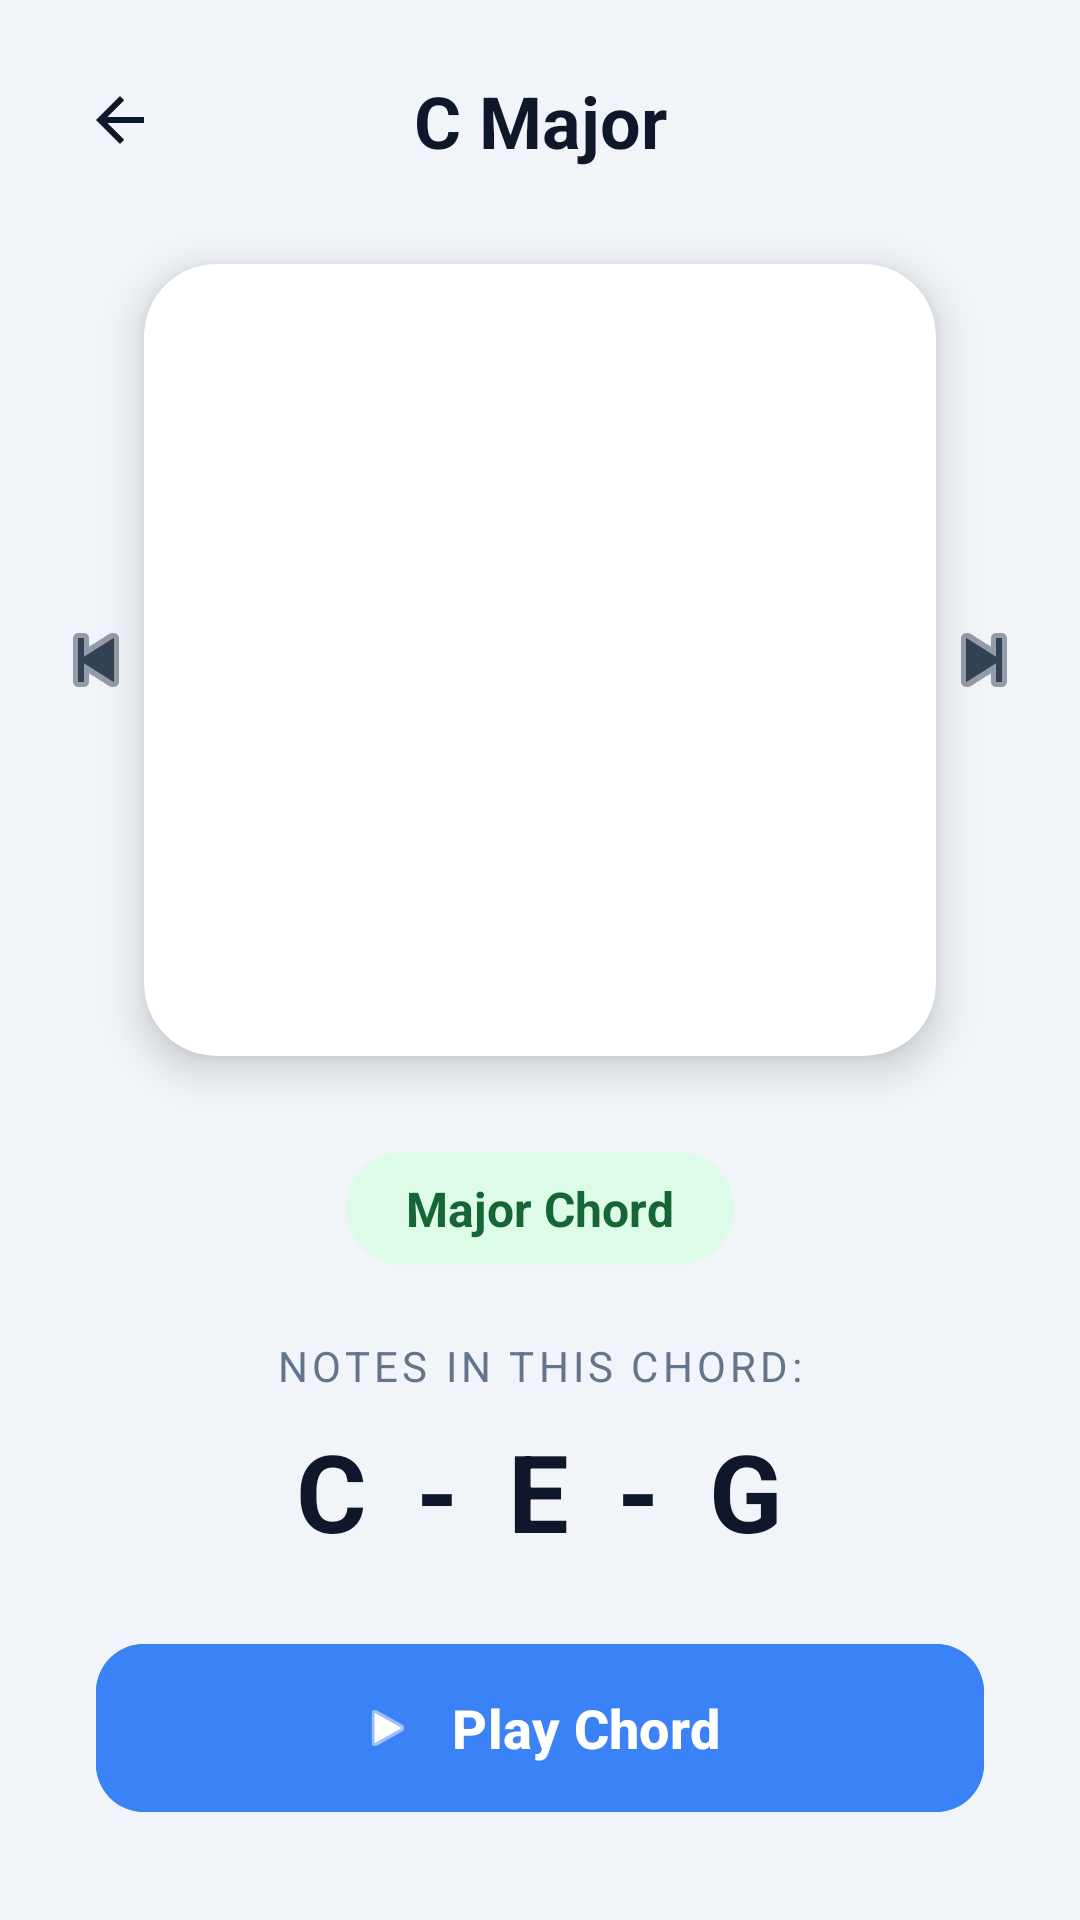

Where to tap for icons on this 1080px×1920px app screen, as point (x, y):
ab back: point (120, 120)
next: point (984, 660)
previous: point (96, 660)
